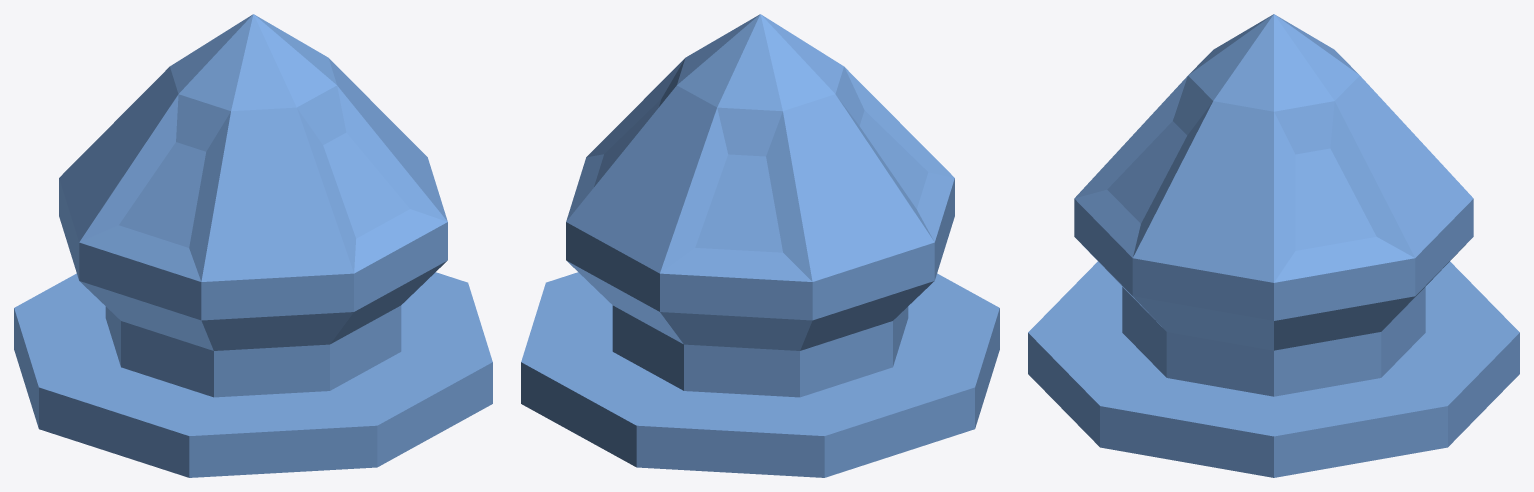
The picture shows the model from 3 angles, left to right: view 1: azimuth 30°, elevation 25°; view 2: azimuth 150°, elevation 25°; view 3: azimuth 270°, elevation 25°; orthographic projection.
Parts seen in each view (by area): view 1: Base1; view 2: Base1; view 3: Base1.
Part boxes in pixels (left/top/right/bottom): Base1: left=14, top=14, right=492, bottom=477; Base1: left=521, top=14, right=999, bottom=477; Base1: left=1028, top=14, right=1519, bottom=477.
Size of the model in its own units: 246 by 199 by 246.
